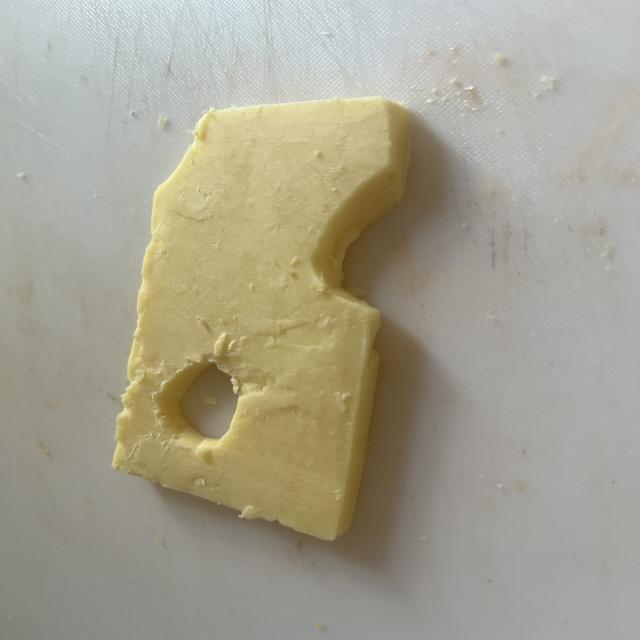cheese: (113, 98, 409, 540)
